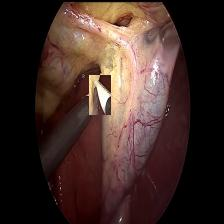Hook: (88, 74, 110, 114)
